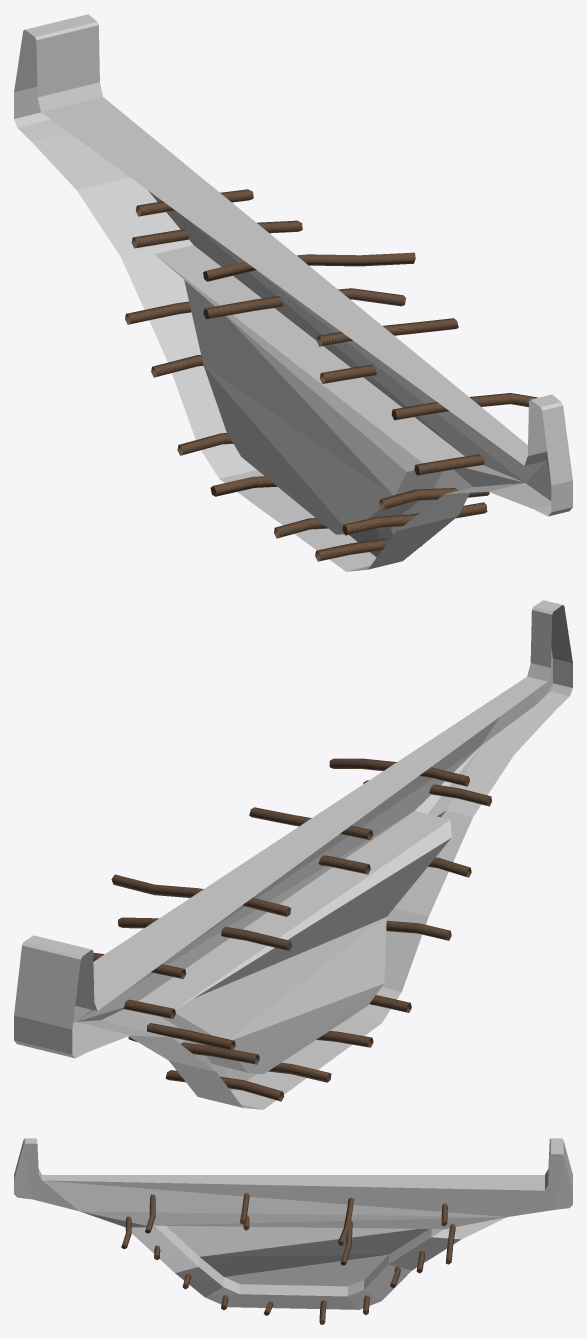
File: RV_Overpass_broken_01.fbx
3 views of the same model, one above another, from view 1: azimuth 30°, elevation 25°; view 2: azimuth 150°, elevation 25°; view 3: azimuth 270°, elevation 25° (orthographic). The views are drawn at different scales.
Visible parts, largest first — view 1: RV_Overpass_broken_01; view 2: RV_Overpass_broken_01; view 3: RV_Overpass_broken_01.
Boxes of the visible parts, x1=… form: RV_Overpass_broken_01: x1=14, y1=14, x2=572, y2=571; RV_Overpass_broken_01: x1=14, y1=600, x2=572, y2=1109; RV_Overpass_broken_01: x1=14, y1=1138, x2=572, y2=1324.
Bounding box in the file's own units: 278 × 377 × 1196.
